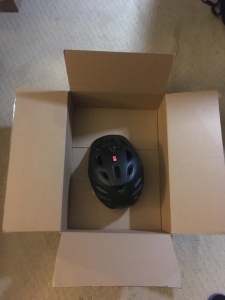innerbox: (66, 90, 169, 236)
outerbox: (9, 51, 225, 286)
product: (89, 134, 143, 208)
